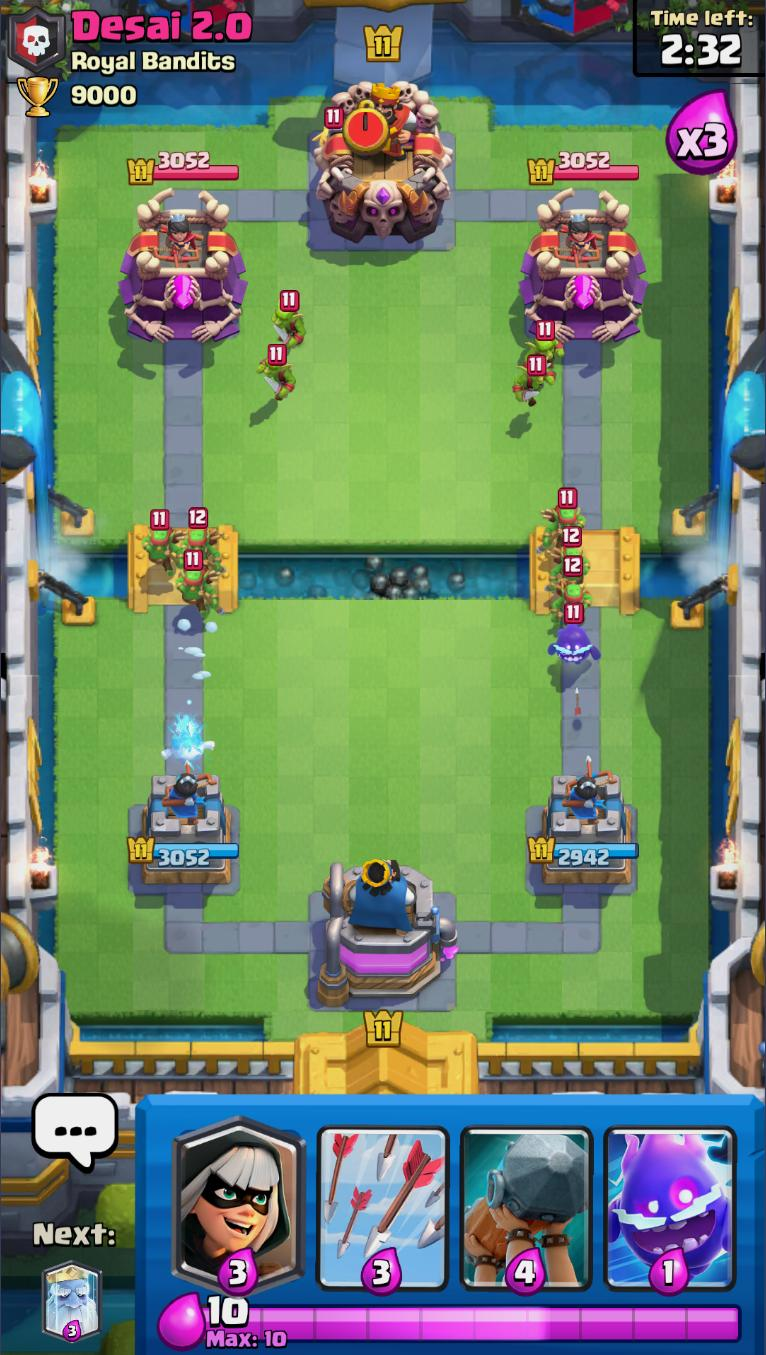ArrowDeck: (308, 1098, 456, 1293)
BanditDeck: (165, 1097, 311, 1294)
BattleRamDeck: (453, 1098, 598, 1296)
ElectroSpirit: (548, 604, 599, 671)
ElectroSpiritDeck: (597, 1099, 747, 1298)
Elixir: (204, 1290, 254, 1330)
EnemyTower: (116, 186, 249, 348), (518, 188, 650, 346)
Goblin: (266, 290, 311, 350), (256, 346, 299, 405), (510, 353, 554, 410), (518, 324, 568, 374)
IceSpirit: (155, 714, 218, 769)
KingTower: (309, 79, 459, 248)
MyKingTower: (310, 855, 463, 1018)
MyPrincessTower: (131, 761, 240, 893), (533, 771, 641, 893)
MyPrincessTowerHP: (526, 831, 639, 868), (126, 835, 240, 868)
PrincessTower: (553, 210, 605, 265), (153, 212, 203, 268)
RoyaleGhostNext: (41, 1256, 103, 1343)
SpearGoblin: (543, 556, 592, 631), (536, 489, 589, 554), (137, 509, 180, 576), (177, 553, 220, 618), (181, 508, 222, 571), (553, 527, 590, 586)
TowerPrincessHP: (121, 149, 240, 189), (528, 148, 641, 189)
